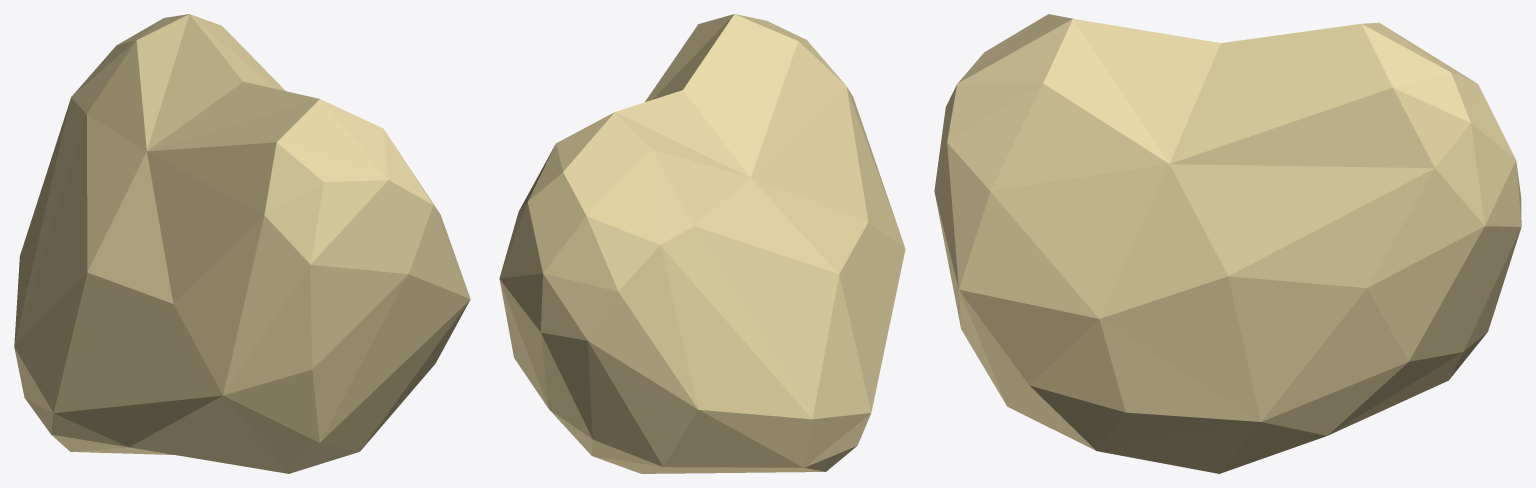
Rendered from Rock (3).fbx.
3 renders of one model, left to right at view 1: azimuth 30°, elevation 25°; view 2: azimuth 150°, elevation 25°; view 3: azimuth 270°, elevation 25°, orthographic. The views are drawn at different scales.
Parts seen in each view (by area): view 1: Asteroid2; view 2: Asteroid2; view 3: Asteroid2.
Part boxes in pixels (bbox=[...]): Asteroid2: bbox=[14, 14, 470, 473]; Asteroid2: bbox=[499, 14, 905, 473]; Asteroid2: bbox=[934, 14, 1521, 473].
Size of the model in its own units: 134 by 151 by 188.
